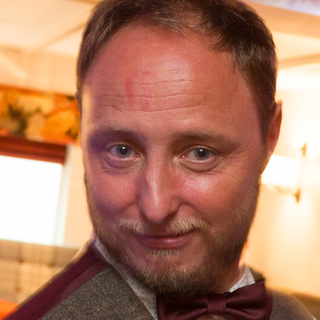eye: (176, 141, 224, 166), (98, 139, 143, 163)
